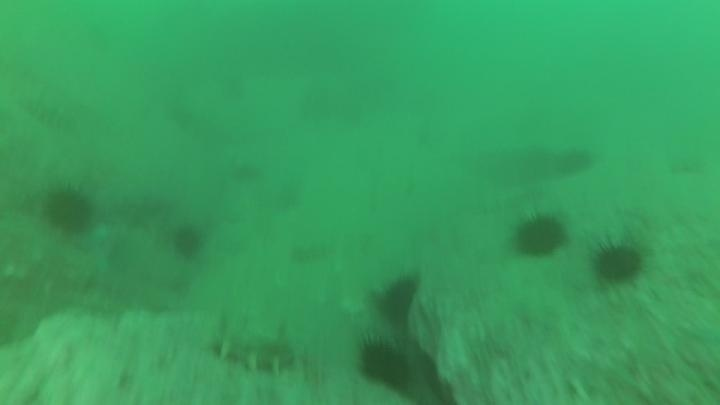echinus: (354, 335, 416, 393), (508, 209, 570, 262), (41, 182, 98, 238), (589, 237, 647, 288), (372, 272, 422, 329), (169, 222, 207, 262), (553, 145, 596, 179)
holothurian: (206, 315, 308, 378), (19, 90, 78, 132), (288, 237, 336, 266)
